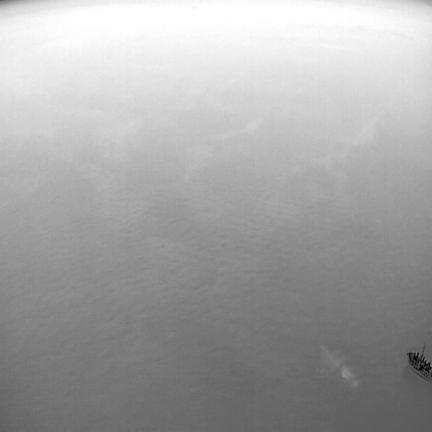flukeprints: (323, 347, 358, 388)
